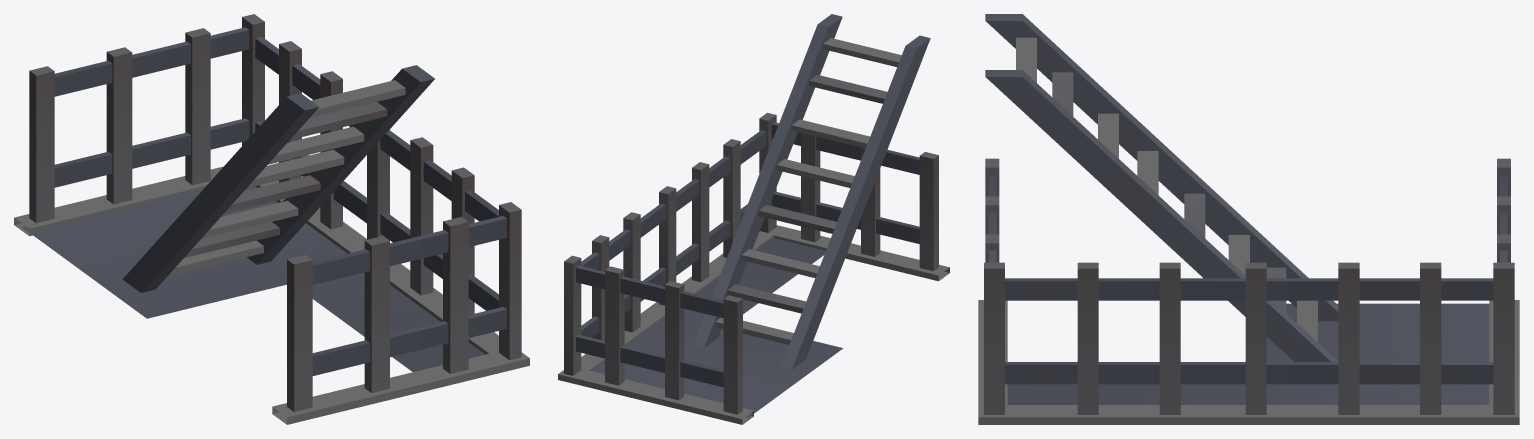
The model's file is SM_House_Stairs_2.FBX.
3 renders of one model, left to right at view 1: azimuth 30°, elevation 25°; view 2: azimuth 150°, elevation 25°; view 3: azimuth 270°, elevation 25°, orthographic. The views are drawn at different scales.
Parts seen in each view (by area): view 1: SM_House_Stairs_2; view 2: SM_House_Stairs_2; view 3: SM_House_Stairs_2.
Boxes of the visible parts, x1,y1,x2,y2 form: SM_House_Stairs_2: [14, 14, 529, 424]; SM_House_Stairs_2: [558, 14, 949, 424]; SM_House_Stairs_2: [978, 14, 1519, 424].
Size of what is drawn, in the model's own units: 168 by 327 by 203.
